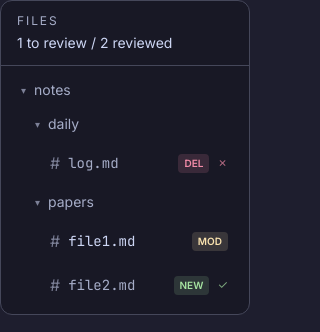
Test: FileExplorer › collapses folders
Step 1. Click the text "papers" → (71, 202), box [48,192,94,212]
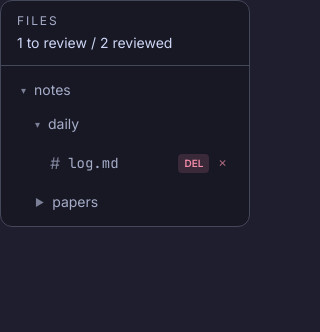
Check: the button "file1.md" is gone
